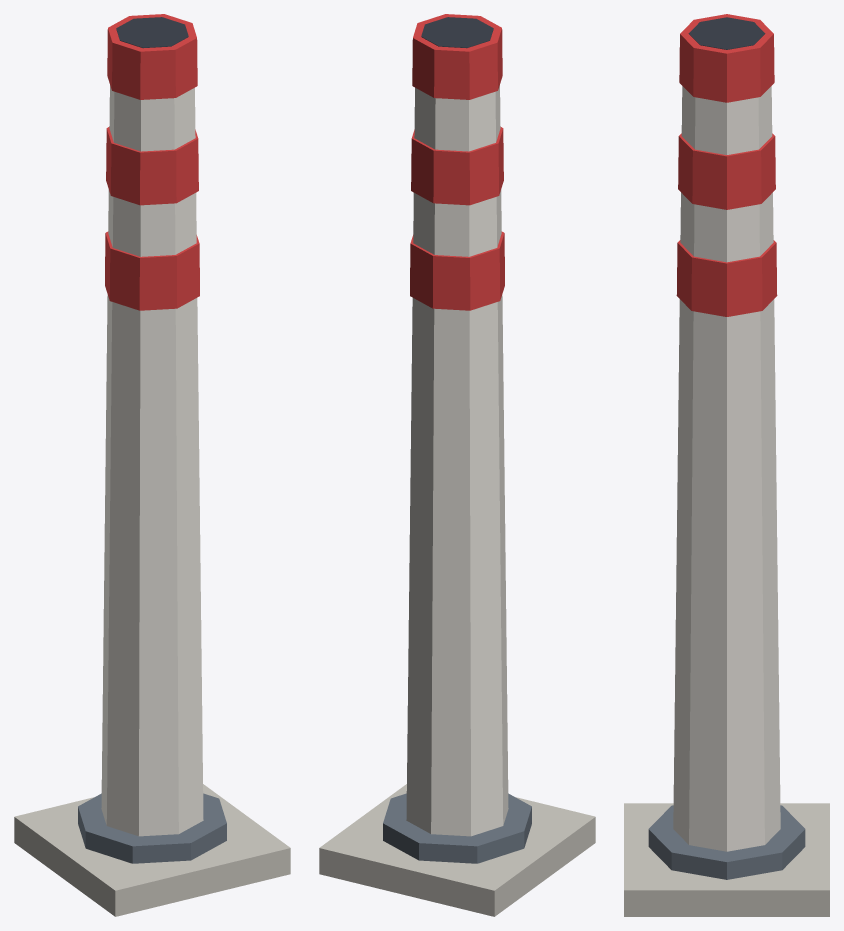
Rendered from chamine_media.glb.
3 views of the same model, side by side, from view 1: azimuth 30°, elevation 25°; view 2: azimuth 150°, elevation 25°; view 3: azimuth 270°, elevation 25° (orthographic).
Visible parts, largest first — view 1: corpo; view 2: corpo; view 3: corpo.
Boxes of the visible parts, x1,y1,x2,y2 form: corpo: (14,14,290,916); corpo: (319,14,595,916); corpo: (624,14,829,916).
Size of the model in its own units: 0.42 by 1.89 by 0.42.
